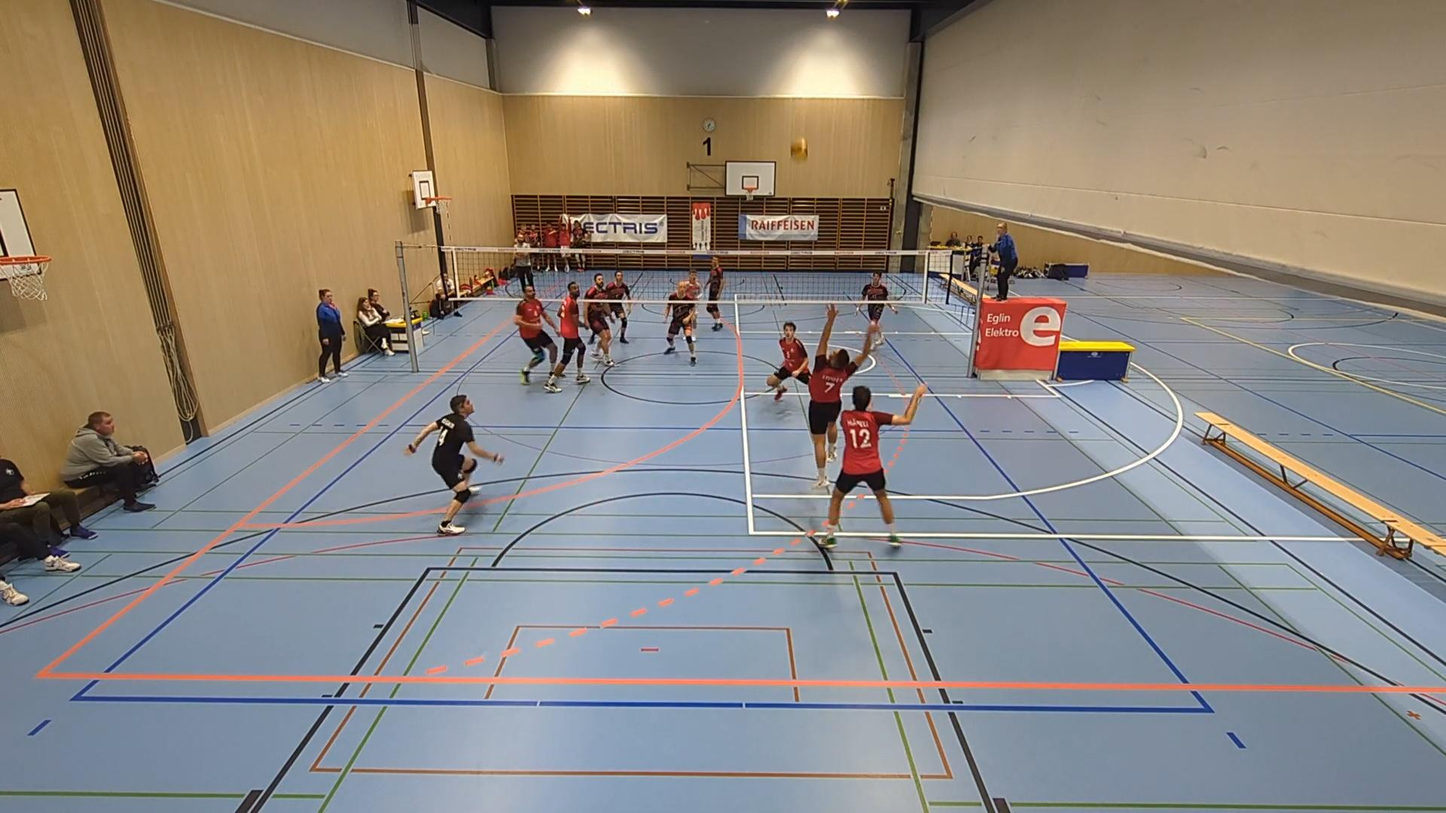difesa: (804, 299, 881, 498)
